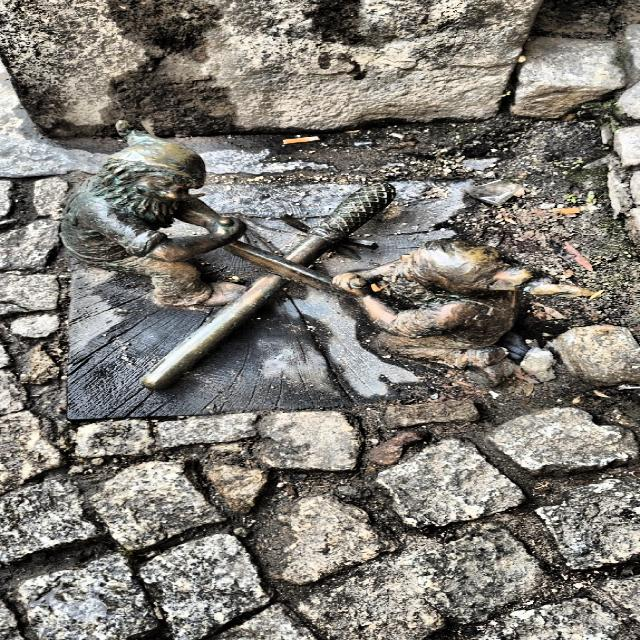Wyrostek i Zadymek: (62, 121, 584, 389)
